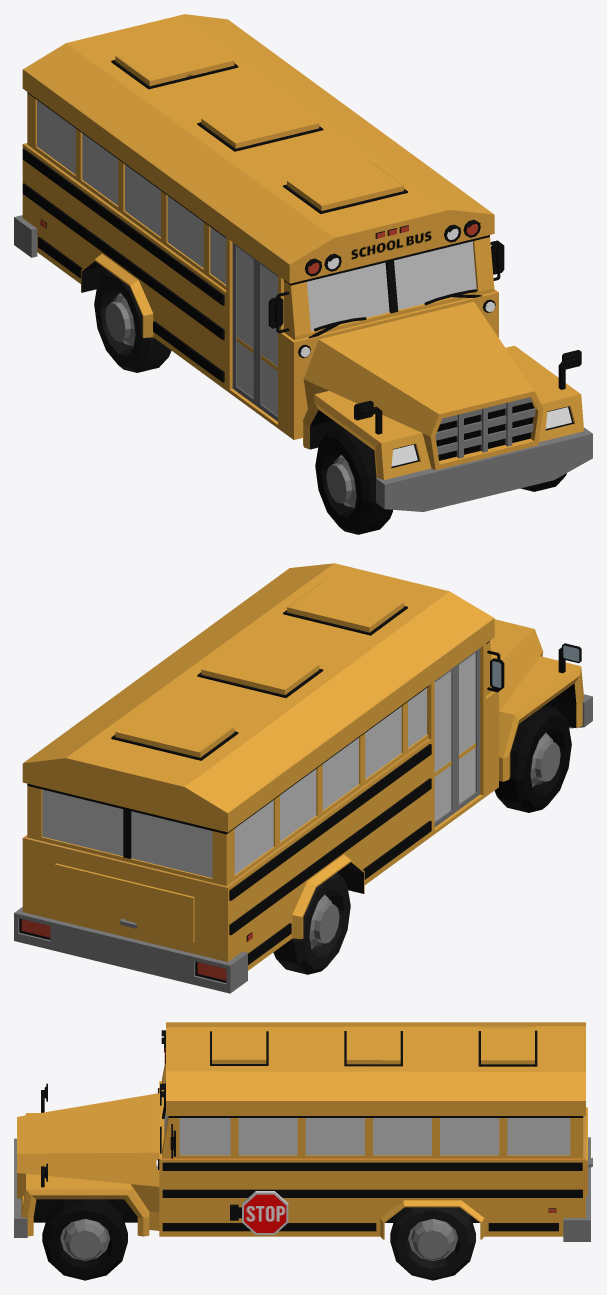
Rendered from Vehicle_SchoolBus01_Static.fbx.
The picture shows the model from 3 angles, top to bottom: view 1: azimuth 30°, elevation 25°; view 2: azimuth 150°, elevation 25°; view 3: azimuth 270°, elevation 25°; orthographic projection. The views are drawn at different scales.
Visible parts, largest first — view 1: Vehicle_SchoolBus01; view 2: Vehicle_SchoolBus01; view 3: Vehicle_SchoolBus01.
Boxes of the visible parts, x1,y1,x2,y2 form: Vehicle_SchoolBus01: (14,14,592,534); Vehicle_SchoolBus01: (14,563,592,993); Vehicle_SchoolBus01: (14,1022,592,1280).
Size of what is drawn, in the model's own units: 312 by 848 by 321.
